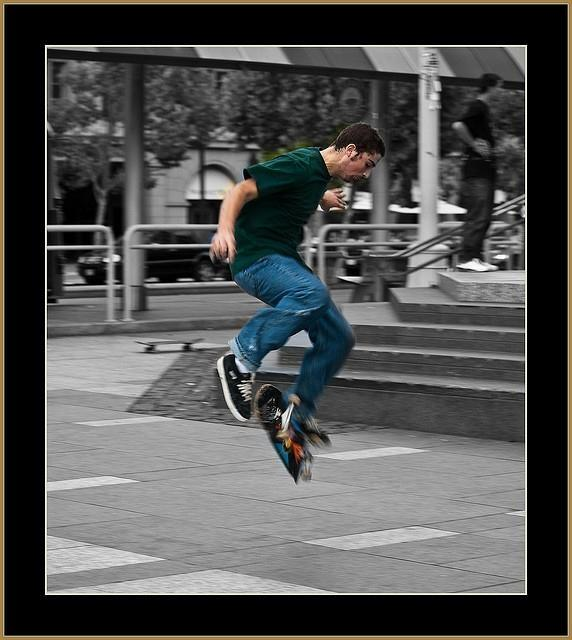car: (78, 229, 231, 284)
